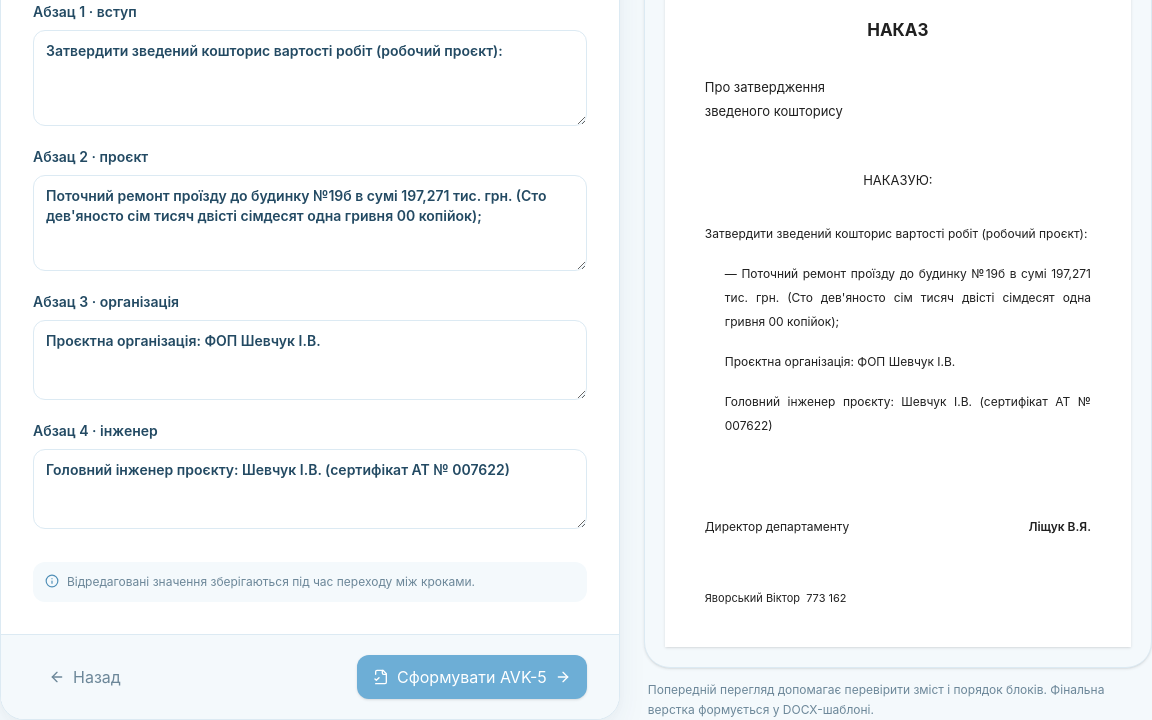
Test: ReviewEditStep › keeps mapped defaults aligned between the fields and live preview after source-based initialization
This screenshot has width=1152, height=720.
(page scrolled)
Expected: the text box labelled "Абзац 4 · інженер" holds "Головний інженер проєкту: Шевчук І.В. (сертифікат АТ № 007622)", top-left (33, 449), bottom-right (587, 529)
Expected: the element named "Попередній перегляд документа" shows "Проєктна організація: ФОП Шевчук І.В.", top-left (725, 354), bottom-right (955, 369)
Replace the text in the text box labelled "Абзац 3 · організація" with "Власний абзац організації" at (310, 360), box top-left (33, 320), bottom-right (587, 400)
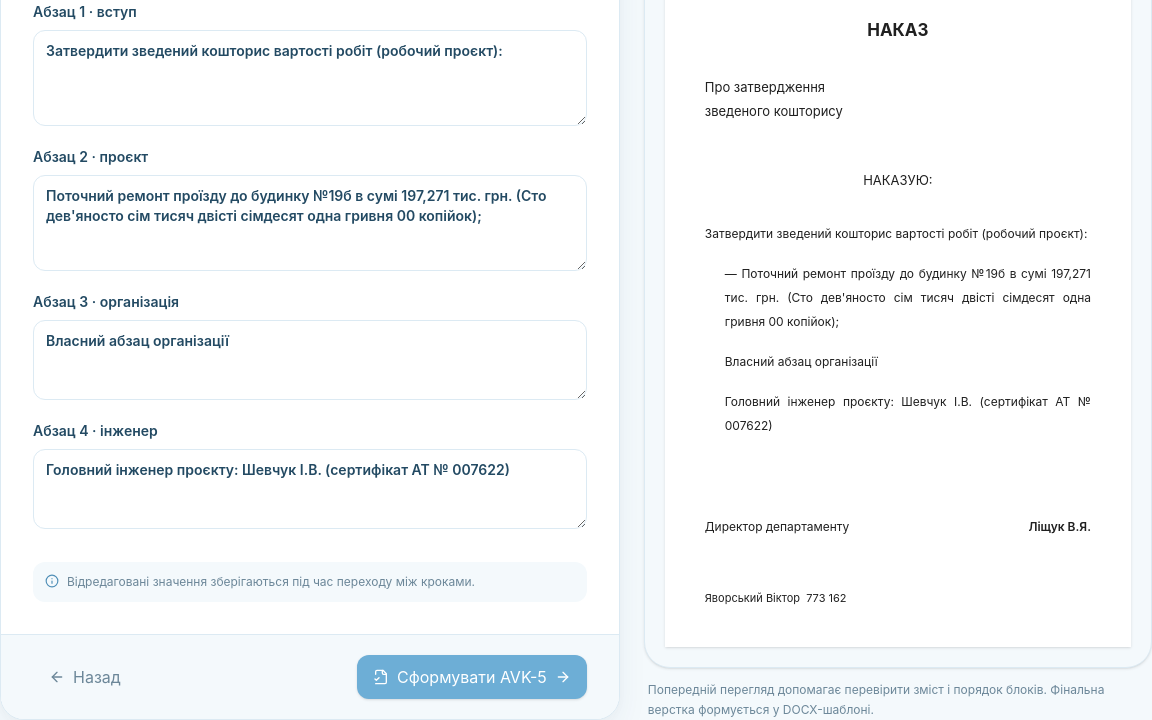
Replace the text in the text box labelled "Абзац 4 · інженер" with "Власний абзац інженера" at (310, 489), box top-left (33, 449), bottom-right (587, 529)
(page scrolled)
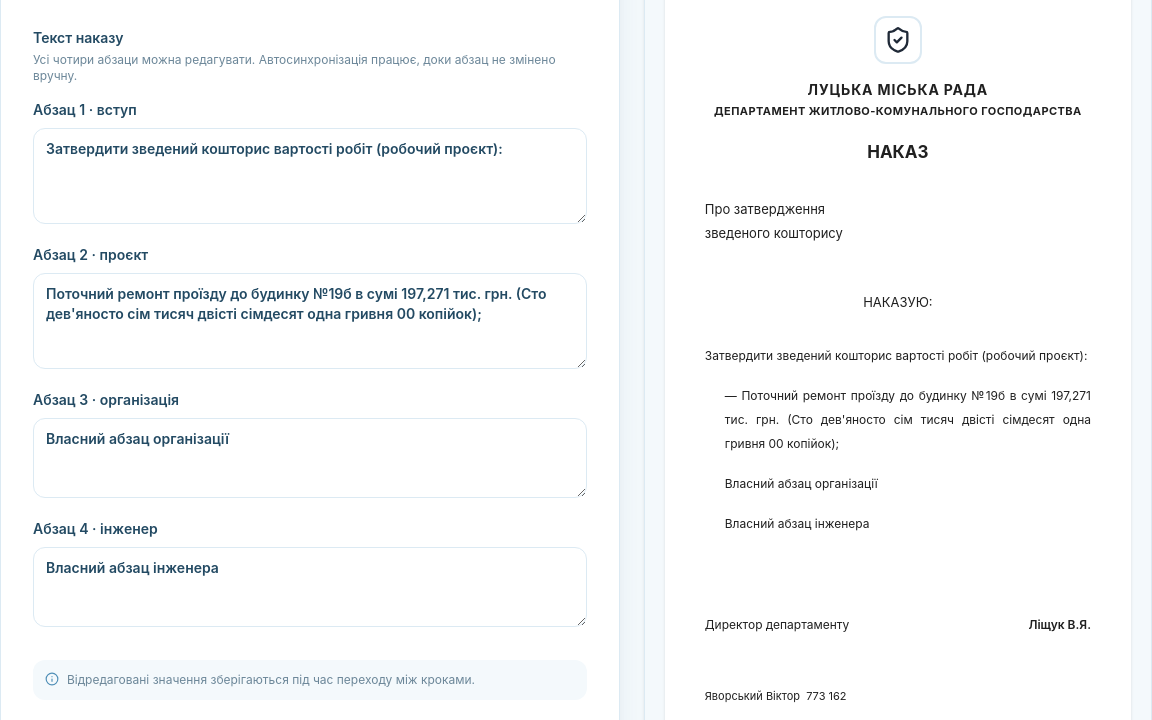
Expected: the element named "Попередній перегляд документа" shows "Власний абзац організації", top-left (725, 476), bottom-right (878, 491)
Expected: the element named "Попередній перегляд документа" shows "Власний абзац інженера", top-left (725, 516), bottom-right (870, 531)
